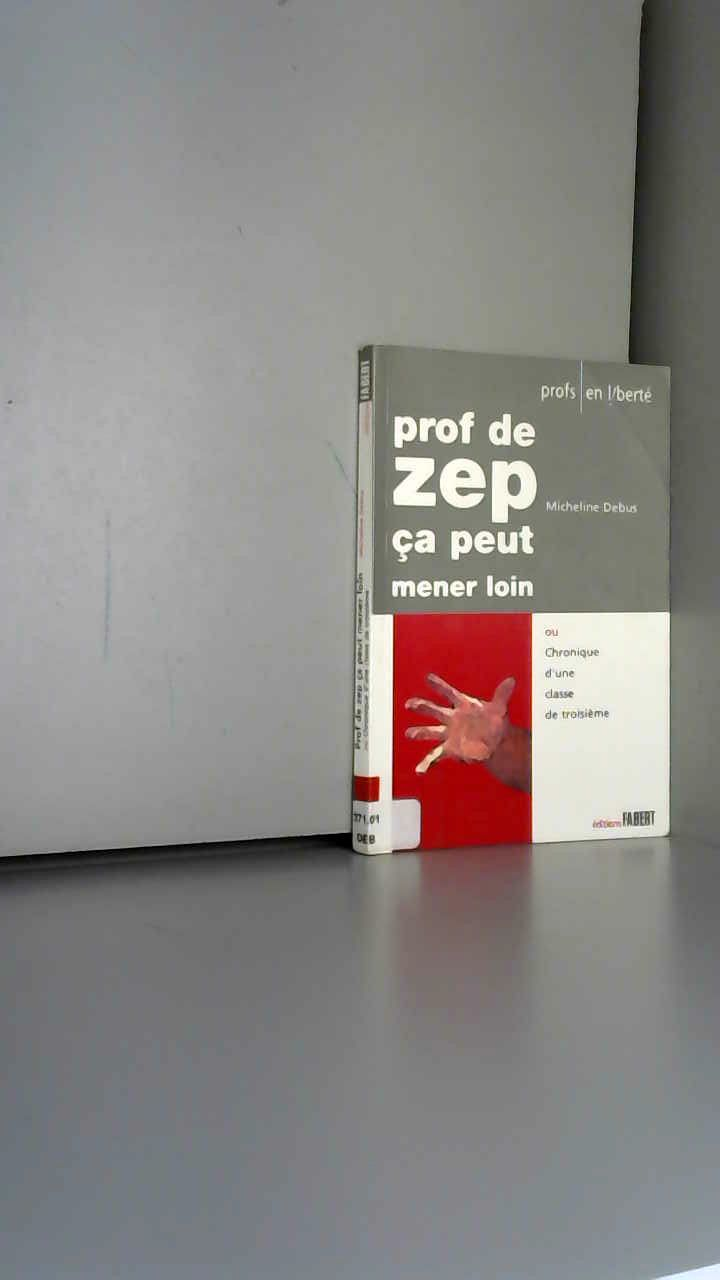book: (320, 320, 715, 942)
